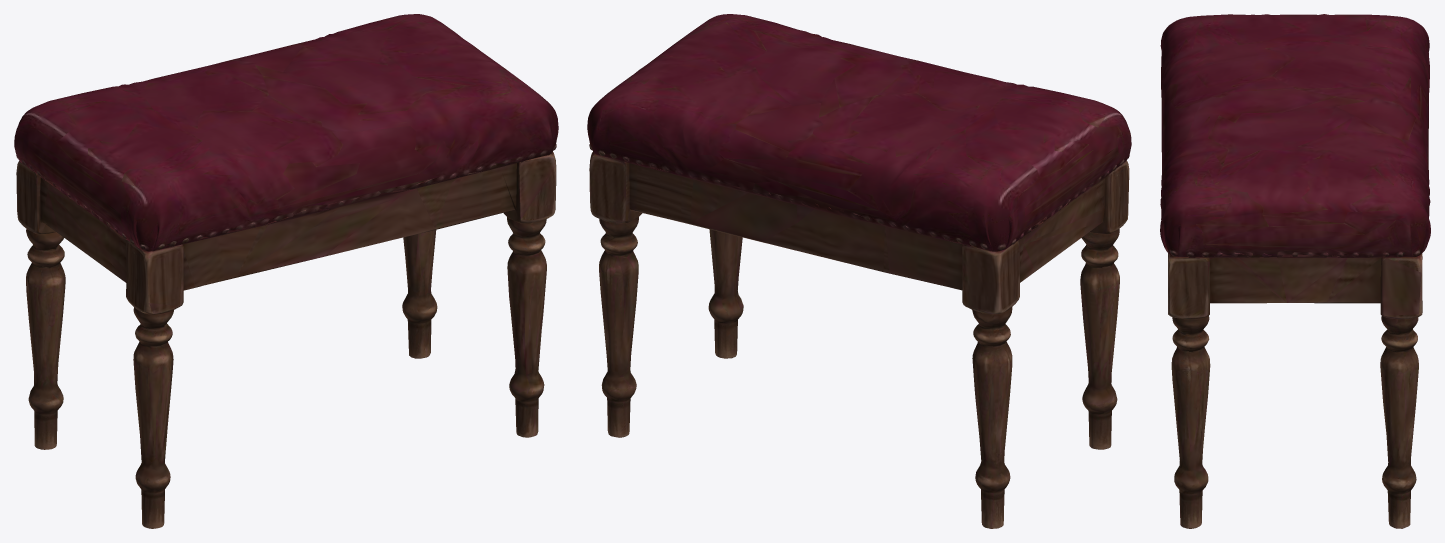
Rendered from pianoBench.glb.
3 renders of one model, left to right at view 1: azimuth 30°, elevation 25°; view 2: azimuth 150°, elevation 25°; view 3: azimuth 270°, elevation 25°, orthographic. The views are drawn at different scales.
Bounding box in the file's own units: 1.9 × 1.49 × 1.08.
1 material, 1 textured.
